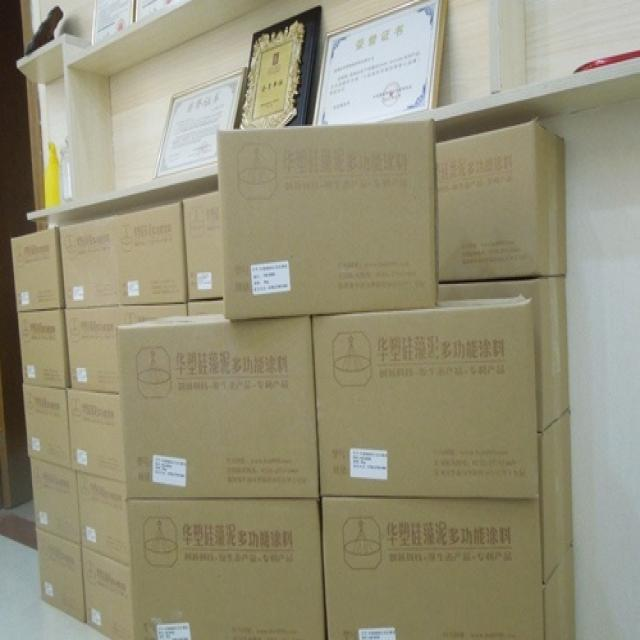box: (312, 296, 536, 499), (218, 121, 438, 321), (118, 314, 319, 501), (320, 497, 544, 640), (127, 501, 325, 640), (433, 123, 566, 282), (435, 277, 568, 433), (58, 202, 184, 311), (65, 302, 186, 396), (535, 413, 572, 581), (65, 388, 127, 482), (76, 472, 129, 566), (29, 457, 82, 548), (81, 546, 131, 640), (36, 529, 86, 620), (182, 193, 224, 299), (23, 385, 70, 469), (13, 228, 61, 309), (18, 311, 68, 386), (544, 544, 575, 640), (188, 297, 228, 317)
